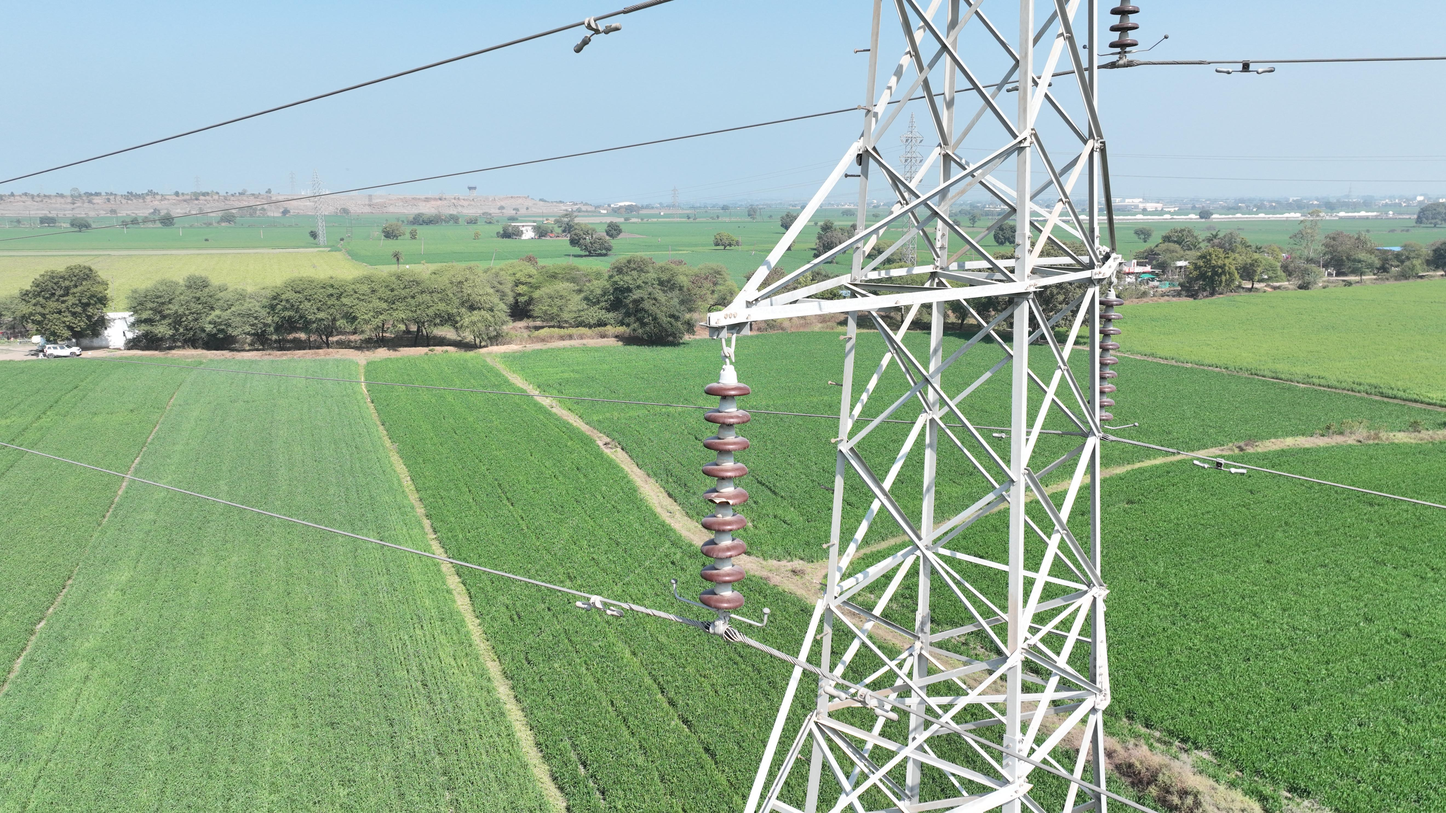broken_insulator: (699, 486, 750, 508)
